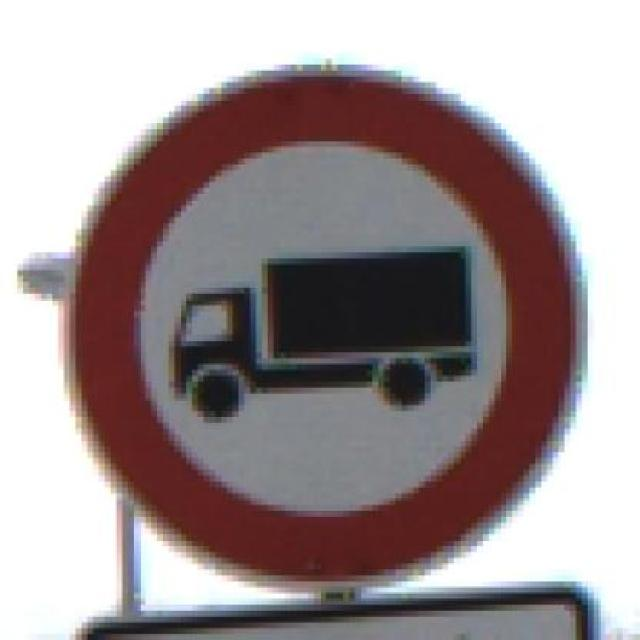Truck traffic is prohibited: (58, 53, 594, 593)
